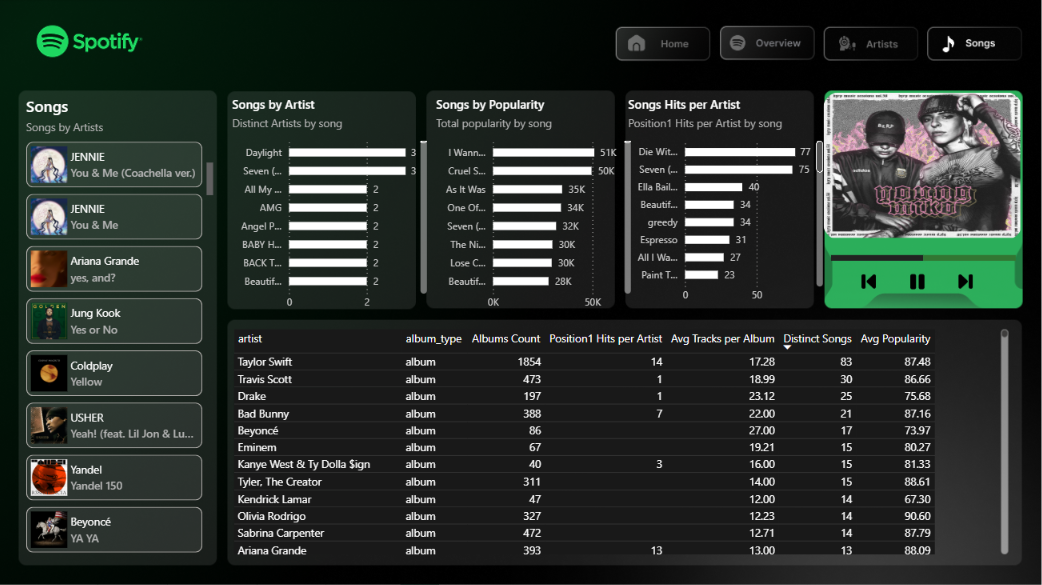

This screenshot's page, from the dashboard's own definition file:
{"tool":"powerbi","page":{"name":"Songs","canvas":[1280,720],"ordinal":3},"visuals":[{"type":"actionButton","box":[755.9,34.6,117.8,40.1],"z":0},{"type":"actionButton","box":[884.9,34.6,117.8,40.1],"z":1000},{"type":"actionButton","box":[1012.7,34.6,117.8,40.1],"z":2000},{"type":"actionButton","box":[1140.5,34.6,117.8,40.1],"z":3000},{"type":"advancedSlicerVisual","title":"Songs ","fields":{"Values":["Top-50-World.song"]},"box":[28.8,119,239.3,568.7],"z":4000},{"type":"tableEx","fields":{"Values":["Top-50-World.artist","Top-50-World.album_type","_Measures.Albums Count","_Measures.Position1 Hits per Artist","_Measures.Avg Tracks per Album","_Measures.Distinct Songs","_Measures.Avg Popularity"]},"box":[281.9,400.9,960.8,285.6],"z":5000},{"type":"clusteredBarChart","title":"Songs by Artist","fields":{"Y":["_Measures.Distinct Artists"],"Category":["Top-50-World.song"]},"box":[281.5,118.8,249.3,271.8],"z":6000},{"type":"clusteredBarChart","title":"Songs by Popularity","fields":{"Category":["Top-50-World.song"],"Y":["Sum(Top-50-World.popularity)"]},"box":[530.7,118.8,249.3,271.8],"z":7000},{"type":"clusteredBarChart","title":"Songs Hits per Artist","fields":{"Category":["Top-50-World.song"],"Y":["_Measures.Position1 Hits per Artist"]},"box":[766.6,119,249.3,263.1],"z":8000},{"type":"advancedSlicerVisual","title":"Songs ","fields":{"Values":["Top-50-World.song"]},"box":[985.6,109.5,294.4,191.7],"z":9000},{"type":"hundredPercentStackedBarChart","fields":{"Y":["_Measures.Avg Popularity","Avg(Top-50-World.popularity)"]},"box":[1015.7,283.6,236.8,63.9],"z":10000},{"type":"image","box":[1047,332.5,40,30.1],"z":11000},{"type":"image","box":[1166,332.5,40.1,30.1],"z":12000},{"type":"shape","box":[1010.7,109.5,249.3,291.9],"z":13000},{"type":"image","box":[1106.4,327.5,40.1,40.1],"z":14000}]}

Visuals, with their boxes in screenshot pixels (x1, y1, x2, y2), scaled from the page's 1280x720 canvas onto the 1042x585 screenshot:
actionButton: pyautogui.locateOnScreen(615, 28, 711, 61)
actionButton: pyautogui.locateOnScreen(720, 28, 816, 61)
actionButton: pyautogui.locateOnScreen(824, 28, 920, 61)
actionButton: pyautogui.locateOnScreen(928, 28, 1024, 61)
"Songs " advancedSlicerVisual: pyautogui.locateOnScreen(23, 97, 218, 559)
tableEx - Top-50-World.artist x Top-50-World.album_type: pyautogui.locateOnScreen(229, 326, 1012, 558)
"Songs by Artist" clusteredBarChart: pyautogui.locateOnScreen(229, 97, 432, 317)
"Songs by Popularity" clusteredBarChart: pyautogui.locateOnScreen(432, 97, 635, 317)
"Songs Hits per Artist" clusteredBarChart: pyautogui.locateOnScreen(624, 97, 827, 310)
"Songs " advancedSlicerVisual: pyautogui.locateOnScreen(802, 89, 1041, 245)
hundredPercentStackedBarChart - _Measures.Avg Popularity x Avg(Top-50-World.popularity): pyautogui.locateOnScreen(827, 230, 1020, 282)
image: pyautogui.locateOnScreen(852, 270, 885, 295)
image: pyautogui.locateOnScreen(949, 270, 982, 295)
shape: pyautogui.locateOnScreen(823, 89, 1026, 326)
image: pyautogui.locateOnScreen(901, 266, 933, 299)
